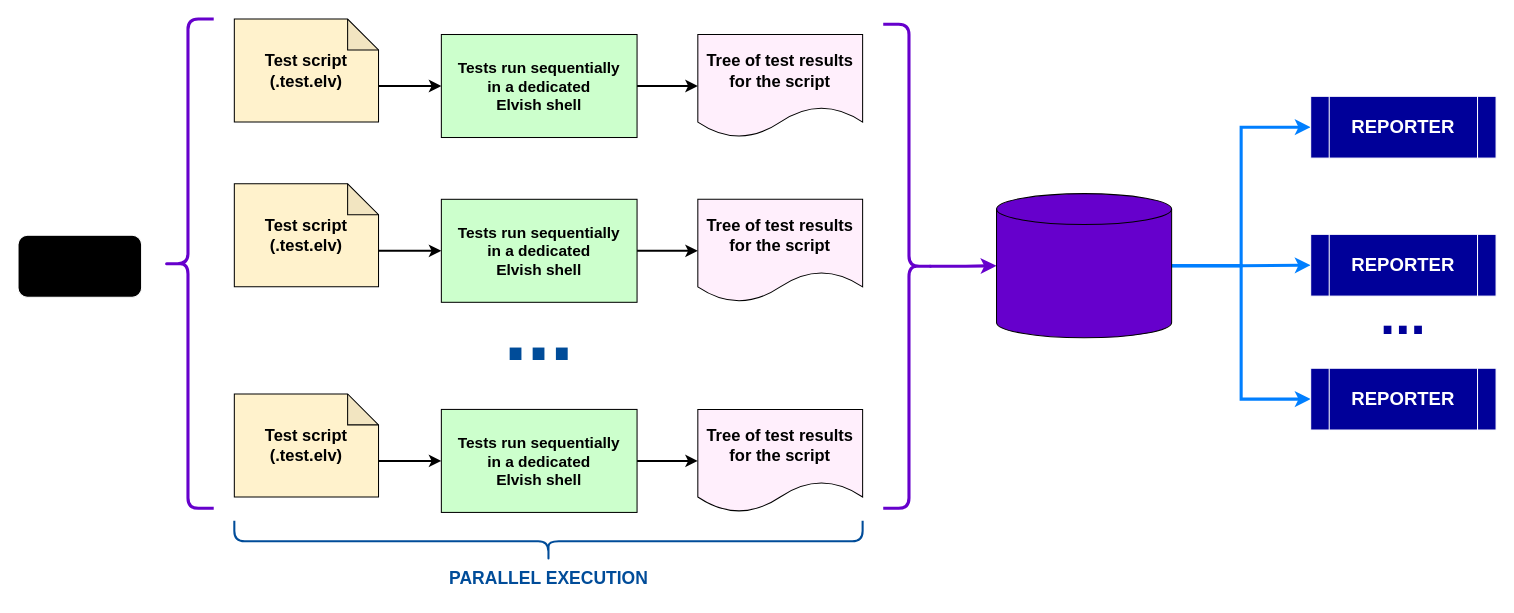
The diagram is 1514 pixels wide and 613 high, and some of its shapes have lost their labels. The shapes that lost their labels are listed below. From the top down, each one's box as (x1, y1, x2, y2) in pixels, then its label:
(17, 234, 142, 297): velvet
(995, 193, 1172, 338): SUMMARY
